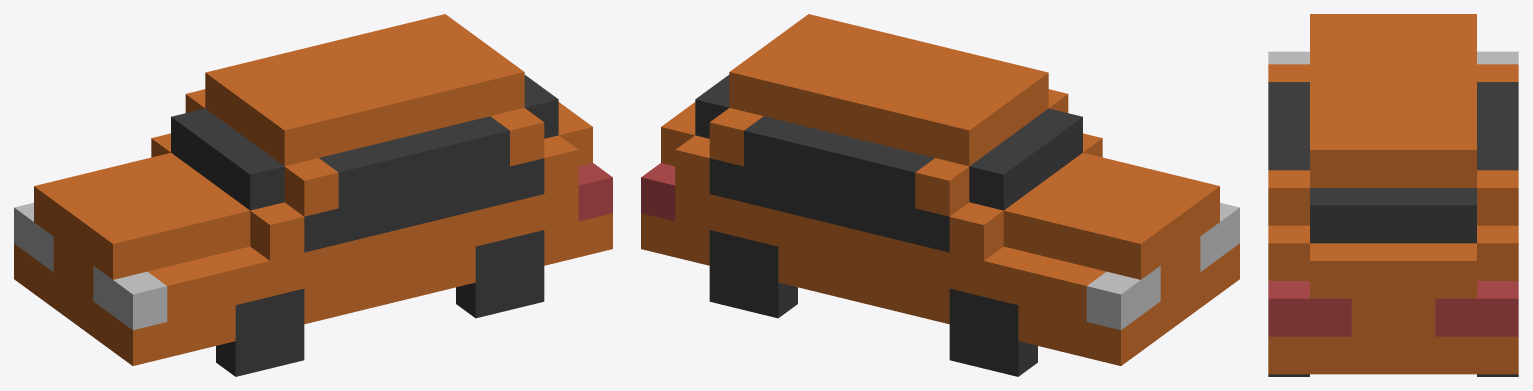
The model's file is car-v1-orange.gltf.
The picture shows the model from 3 angles, left to right: view 1: azimuth 30°, elevation 25°; view 2: azimuth 150°, elevation 25°; view 3: azimuth 270°, elevation 25°; orthographic projection. The views are drawn at different scales.
Parts seen in each view (by area): view 1: model, wheels; view 2: model, wheels; view 3: model, wheels.
Boxes of the visible parts, x1,y1,x2,y2 form: model: [14, 14, 612, 365]; wheels: [216, 230, 544, 376]; model: [641, 14, 1239, 365]; wheels: [709, 230, 1037, 376]; model: [1268, 14, 1518, 374]; wheels: [1268, 374, 1518, 376].
Bounding box in the file's own units: 1.4 × 0.6 × 0.6.
2 materials, 2 textured.
